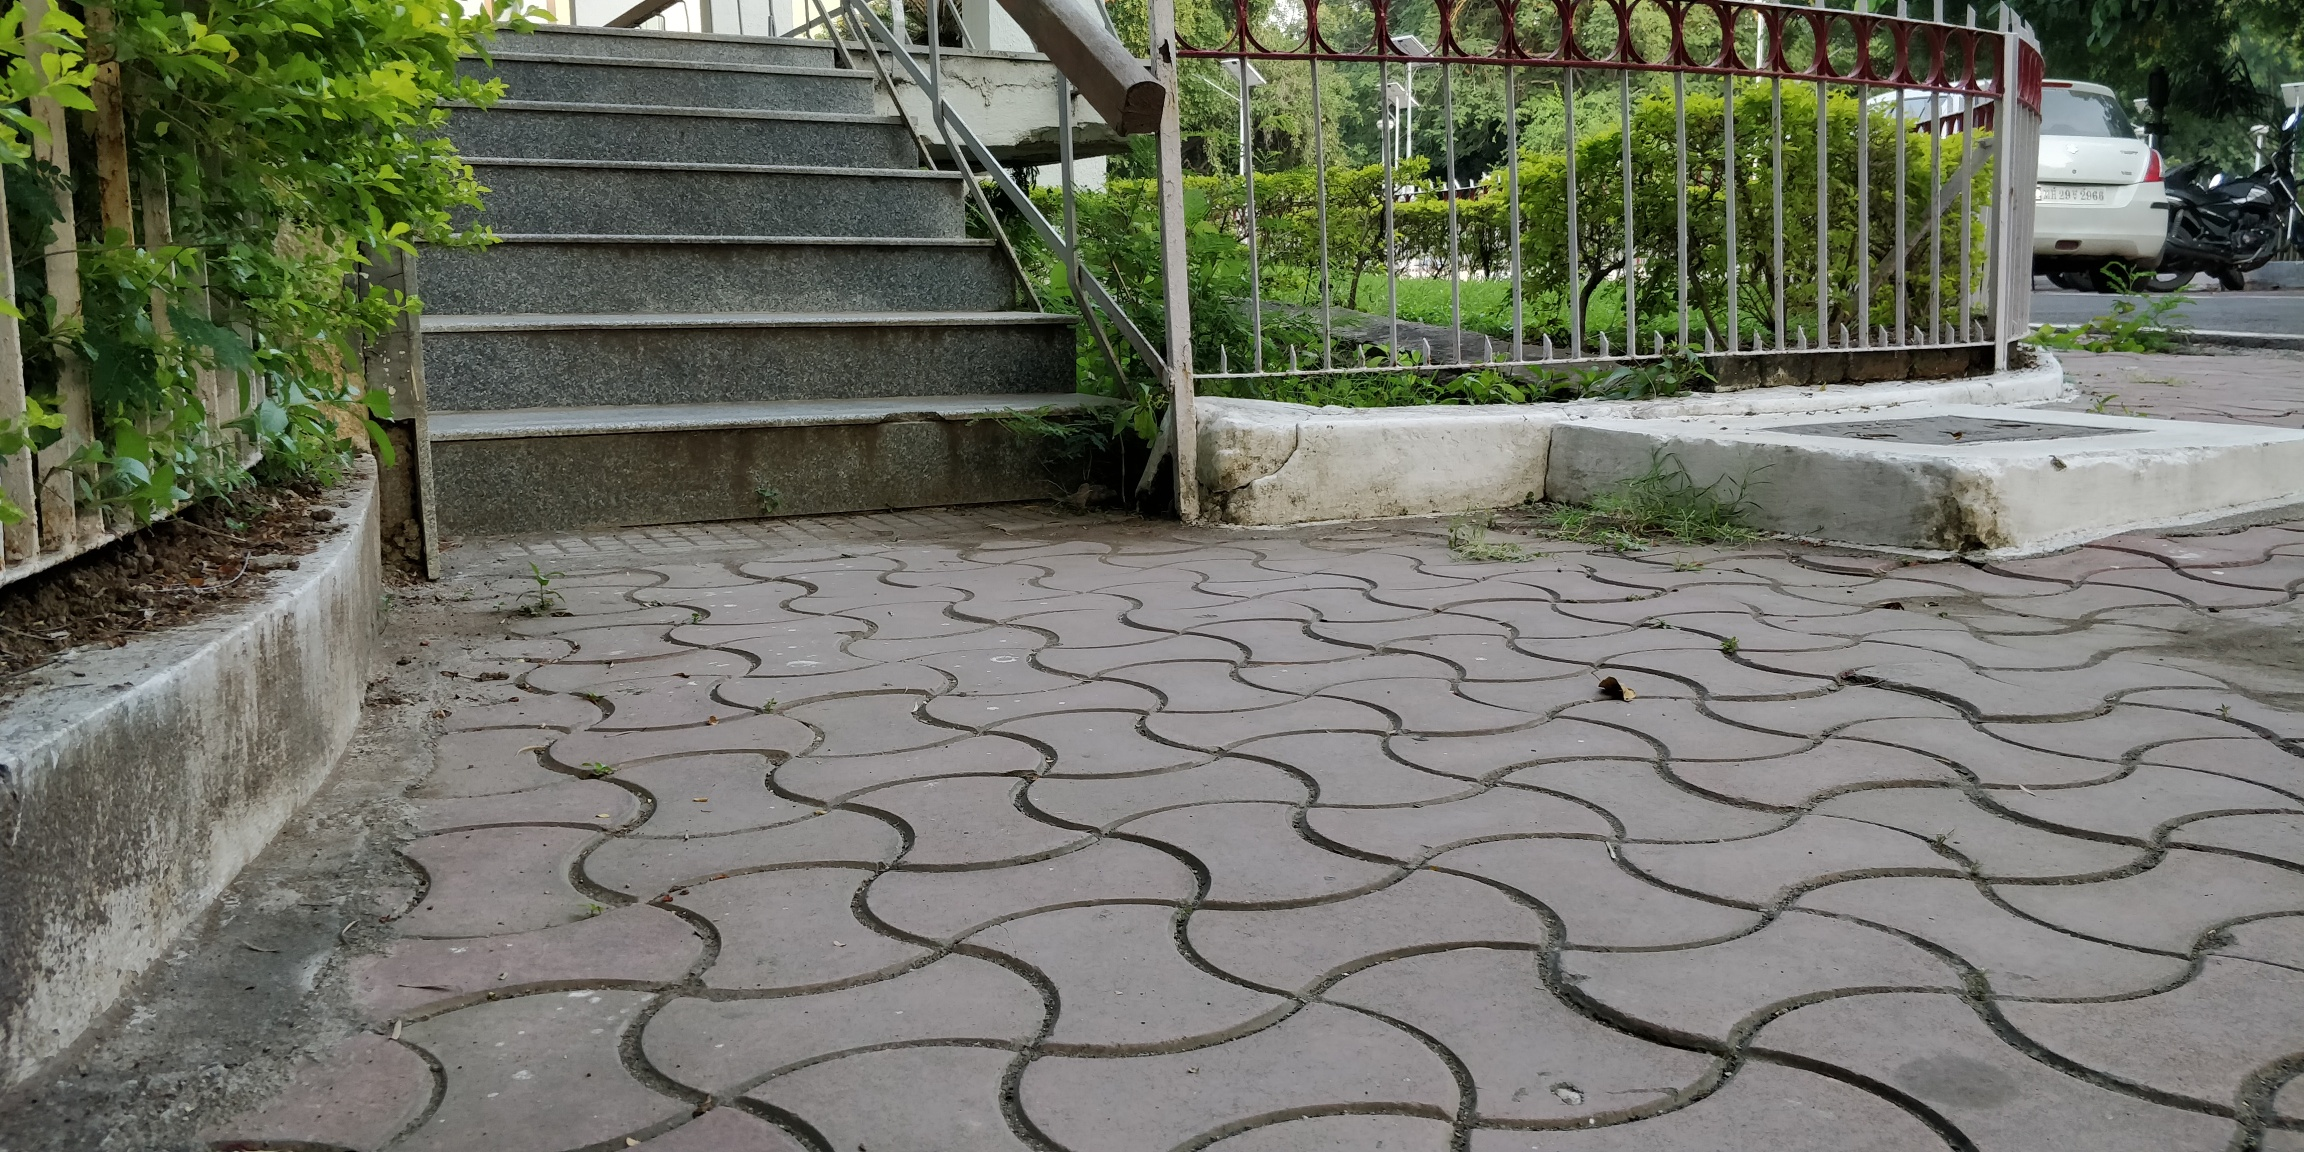stairs_up: (395, 3, 1153, 552)
